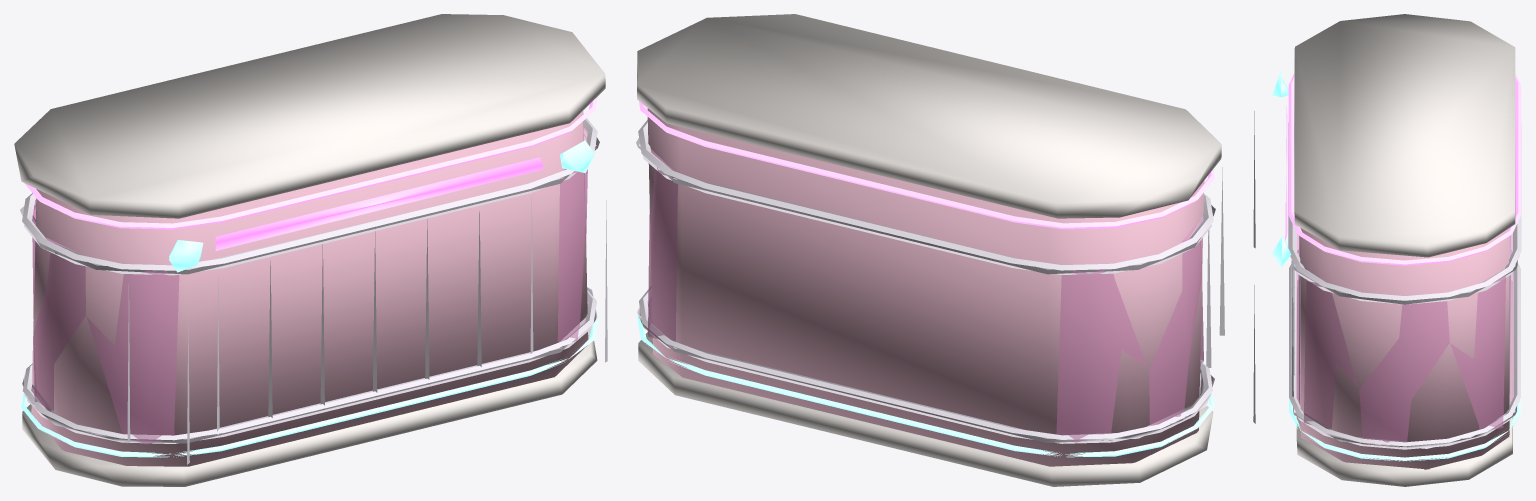
The model's file is lod_building_capsule_row.glb.
3 views of the same model, side by side, from view 1: azimuth 30°, elevation 25°; view 2: azimuth 150°, elevation 25°; view 3: azimuth 270°, elevation 25° (orthographic). The views are drawn at different scales.
Visible parts, largest first — view 1: building_capsule_row; view 2: building_capsule_row; view 3: building_capsule_row.
Part boxes in pixels (left/top/right/bottom): building_capsule_row: left=14, top=14, right=607, bottom=486; building_capsule_row: left=636, top=14, right=1224, bottom=486; building_capsule_row: left=1253, top=14, right=1521, bottom=486.
Size of the model in its own units: 8.44 by 4.2 by 4.14.
